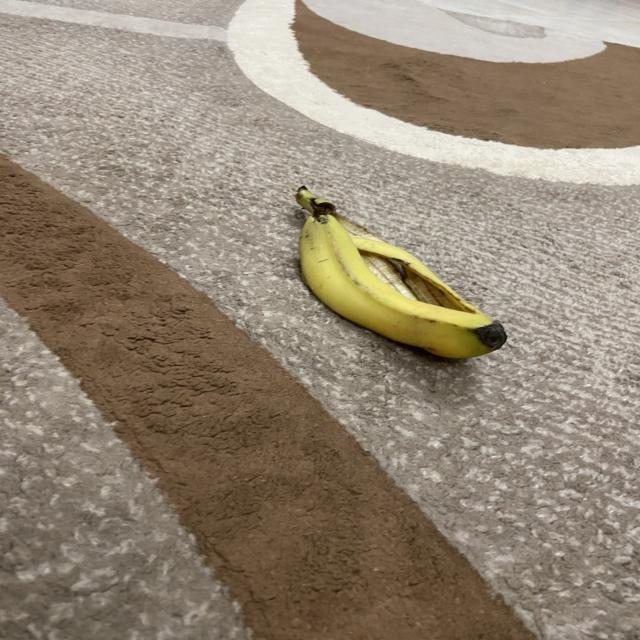banana-peel: (293, 184, 507, 361)
